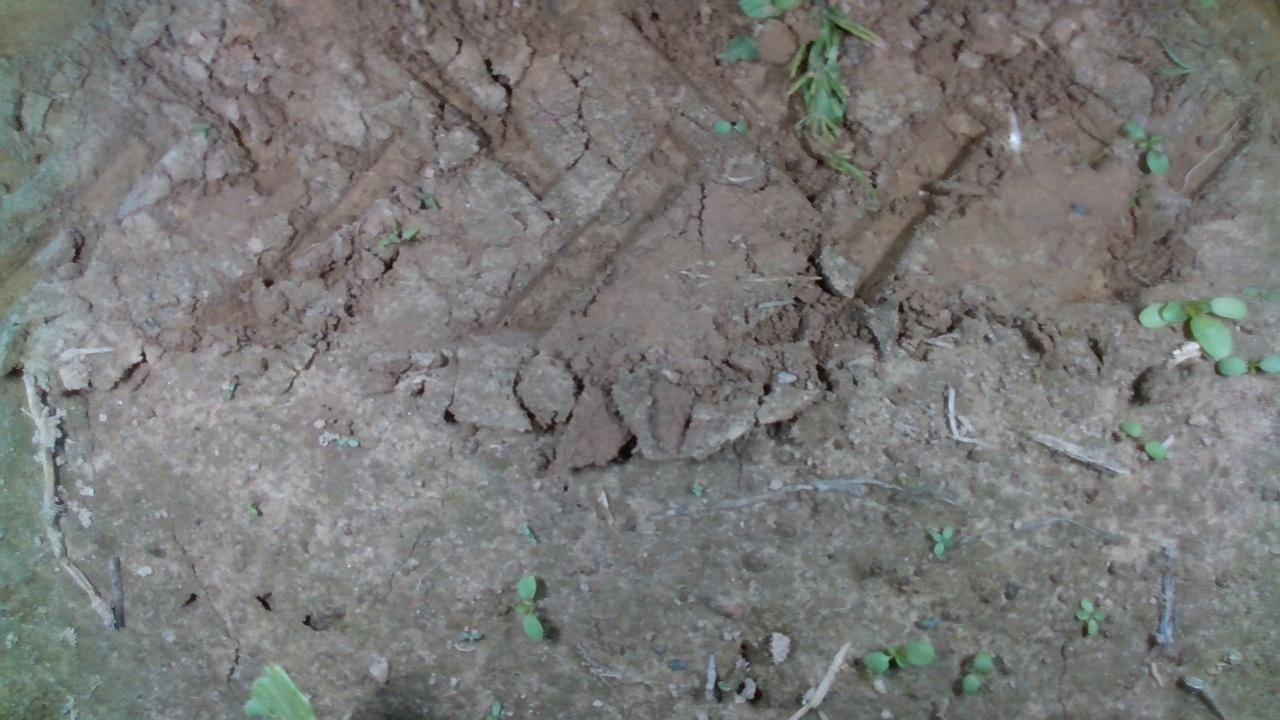weed: (1120, 118, 1171, 174), (858, 638, 934, 675), (513, 573, 543, 642), (1118, 418, 1166, 461), (959, 648, 992, 693), (1071, 595, 1106, 637), (929, 522, 954, 556), (709, 118, 748, 135), (689, 479, 702, 496)
